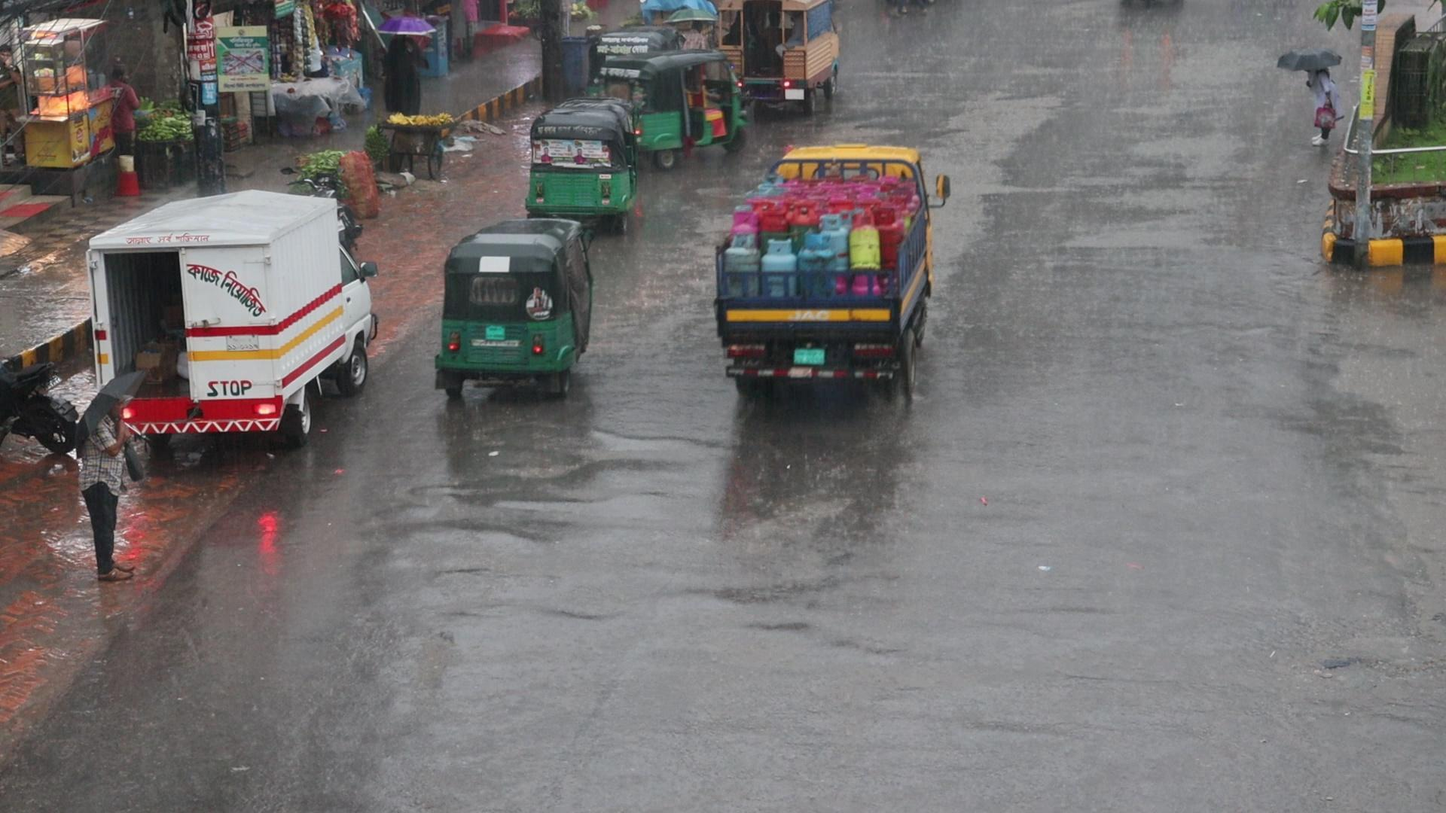Truck: (715, 140, 940, 413)
